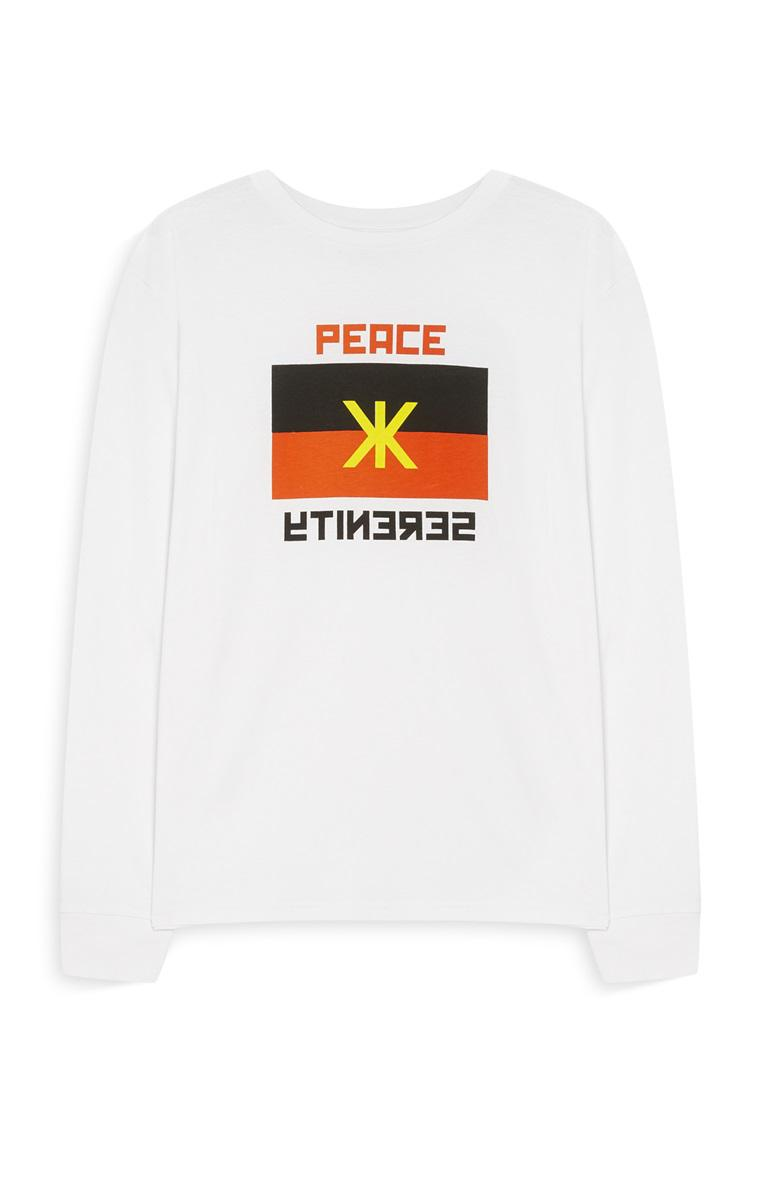teeshirt: (43, 159, 716, 1022)
